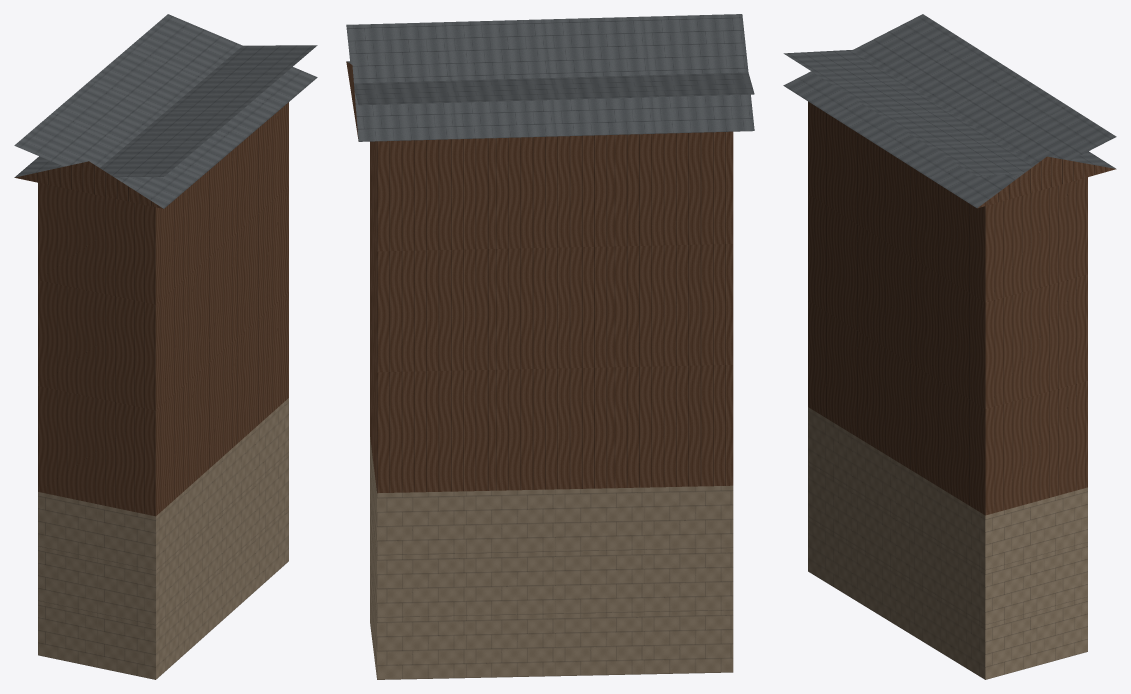
Rendered from bld_c19_30_378.gltf.
3 views of the same model, side by side, from view 1: azimuth 30°, elevation 25°; view 2: azimuth 150°, elevation 25°; view 3: azimuth 270°, elevation 25° (orthographic). The views are drawn at different scales.
Visible parts, largest first — view 1: bld_c19_30_378; view 2: bld_c19_30_378; view 3: bld_c19_30_378.
Boxes of the visible parts, x1,y1,x2,y2 form: bld_c19_30_378: (14,14,317,679); bld_c19_30_378: (346,14,754,679); bld_c19_30_378: (783,14,1116,679).
Size of the model in its own units: 10.79 by 16 by 9.38.
4 materials, 4 textured.
